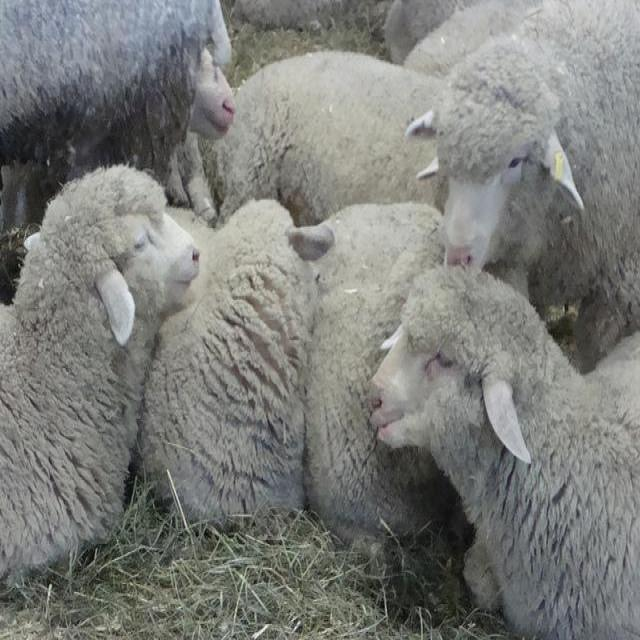Sheep: (368, 256, 636, 632), (409, 0, 639, 369), (0, 176, 199, 584), (5, 2, 242, 286), (129, 197, 318, 535), (289, 201, 456, 543), (217, 45, 446, 216)
